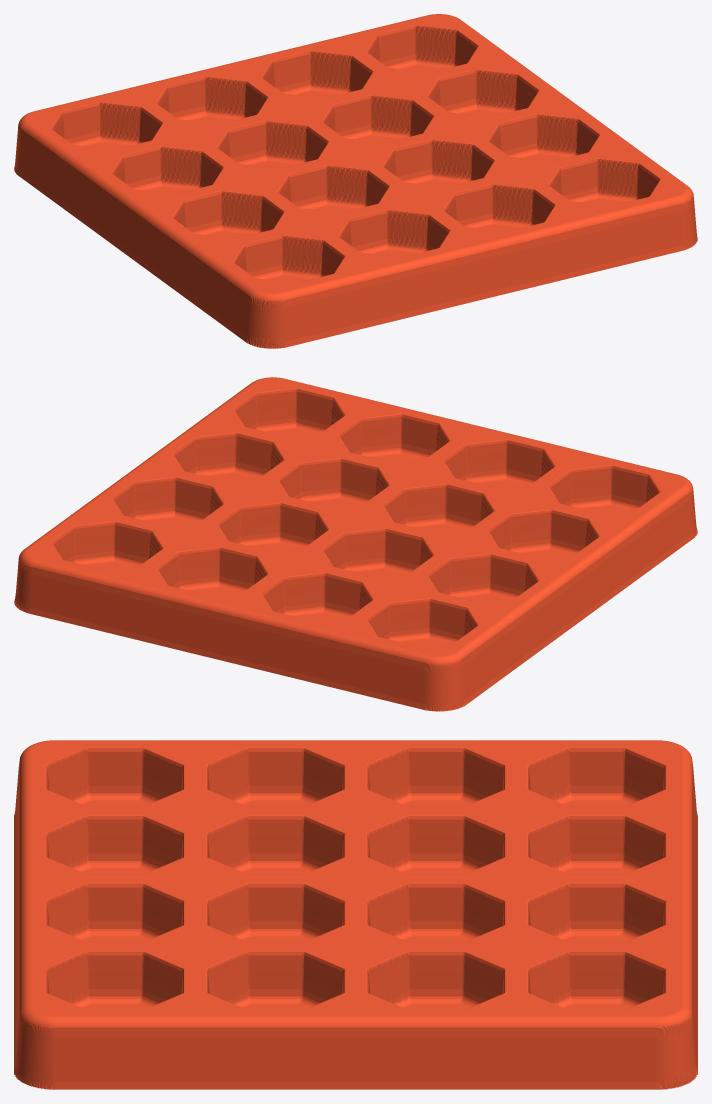
The model's file is mold.glb.
3 renders of one model, top to bottom at view 1: azimuth 30°, elevation 25°; view 2: azimuth 150°, elevation 25°; view 3: azimuth 270°, elevation 25°, orthographic. The views are drawn at different scales.
Visible parts, largest first — view 1: geometry_0; view 2: geometry_0; view 3: geometry_0.
Part boxes in pixels (bbox=[...]): geometry_0: bbox=[14, 14, 697, 348]; geometry_0: bbox=[14, 377, 697, 711]; geometry_0: bbox=[14, 740, 697, 1089].
Bounding box in the file's own units: 0.1486 × 0.0159 × 0.1486.
